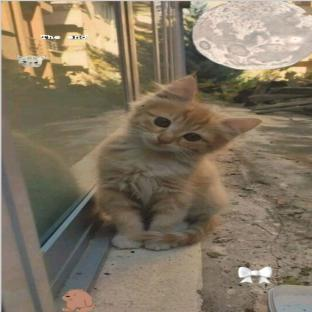Animal: (95, 75, 261, 250)
